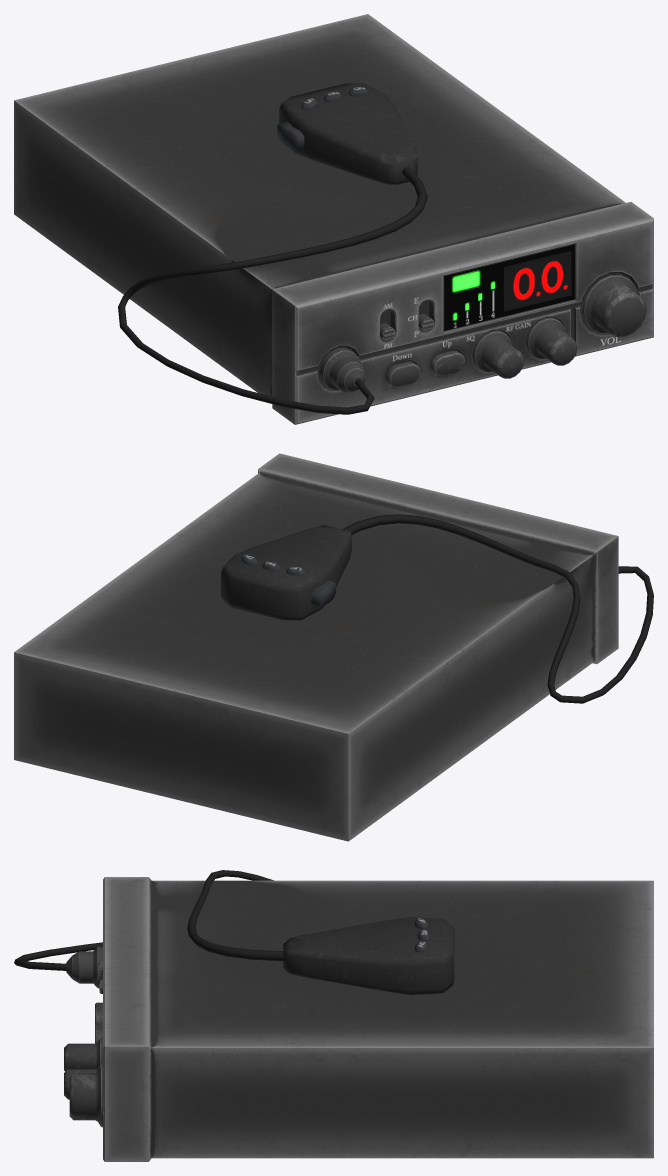
The model's file is transmitter.fbx.
3 views of the same model, one above another, from view 1: azimuth 30°, elevation 25°; view 2: azimuth 150°, elevation 25°; view 3: azimuth 270°, elevation 25° (orthographic). The views are drawn at different scales.
Visible parts, largest first — view 1: Cube, transmitter, wire, vol, rf_gain, sq, plug, up, down; view 2: Cube, transmitter, wire; view 3: Cube, transmitter, wire, vol, plug, sq.
Part boxes in pixels (x1=…): Cube: x1=14, y1=14, x2=653, y2=424; transmitter: x1=279, y1=83, x2=417, y2=184; wire: x1=118, y1=166, x2=427, y2=414; vol: x1=583, y1=275, x2=646, y2=337; rf_gain: x1=526, y1=317, x2=577, y2=365; sq: x1=473, y1=330, x2=523, y2=378; plug: x1=319, y1=348, x2=365, y2=392; up: x1=430, y1=350, x2=464, y2=376; down: x1=386, y1=361, x2=420, y2=387; Cube: x1=14, y1=453, x2=618, y2=841; transmitter: x1=221, y1=525, x2=351, y2=620; wire: x1=342, y1=514, x2=653, y2=703; Cube: x1=103, y1=877, x2=653, y2=1161; transmitter: x1=283, y1=917, x2=454, y2=994; wire: x1=14, y1=870, x2=283, y2=970; vol: x1=69, y1=1066, x2=102, y2=1127; plug: x1=66, y1=946, x2=102, y2=988; sq: x1=64, y1=1037, x2=102, y2=1071.
Size of the model in its own units: 133 by 47.61 by 177.
